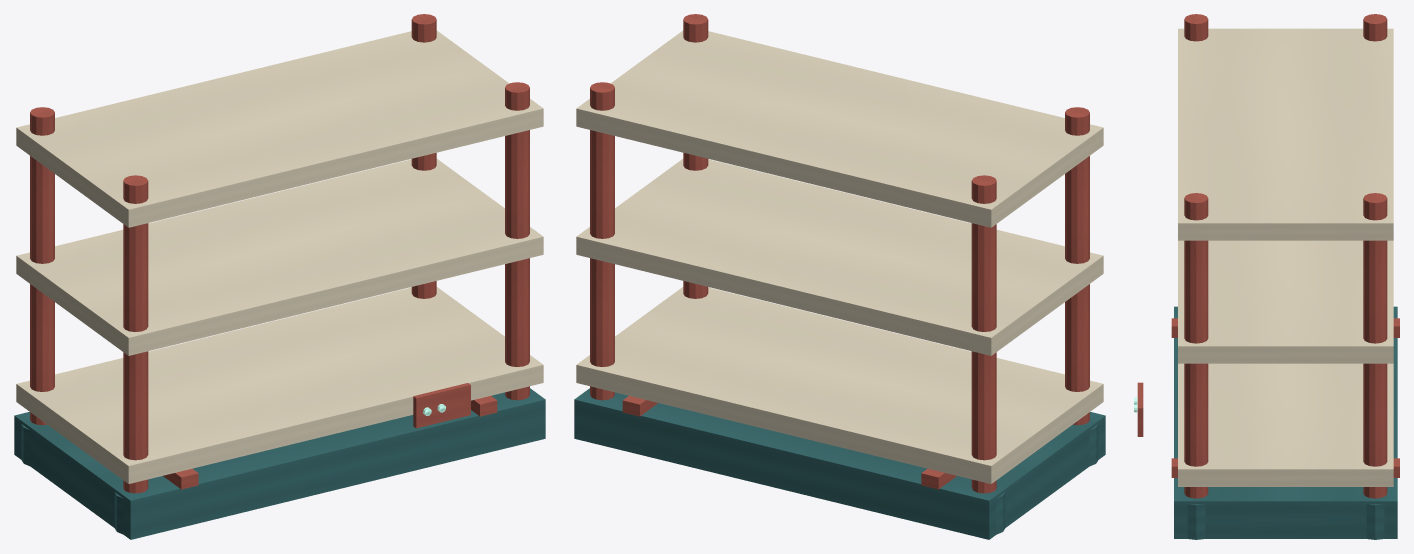
File: atlas100-s033-a06.glb
The picture shows the model from 3 angles, left to right: view 1: azimuth 30°, elevation 25°; view 2: azimuth 150°, elevation 25°; view 3: azimuth 270°, elevation 25°; orthographic projection. The views are drawn at different scales.
Visible parts, largest first — view 1: atlas100-s033-a06:part-013, atlas100-s033-a06:part-012, atlas100-s033-a06:part-011, atlas100-s033-a06:part-000, atlas100-s033-a06:part-005, atlas100-s033-a06:part-009, atlas100-s033-a06:part-003, atlas100-s033-a06:part-014, atlas100-s033-a06:part-007; view 2: atlas100-s033-a06:part-013, atlas100-s033-a06:part-012, atlas100-s033-a06:part-011, atlas100-s033-a06:part-000, atlas100-s033-a06:part-003, atlas100-s033-a06:part-007, atlas100-s033-a06:part-005, atlas100-s033-a06:part-009; view 3: atlas100-s033-a06:part-013, atlas100-s033-a06:part-012, atlas100-s033-a06:part-011, atlas100-s033-a06:part-000, atlas100-s033-a06:part-007, atlas100-s033-a06:part-009, atlas100-s033-a06:part-008, atlas100-s033-a06:part-010, atlas100-s033-a06:part-003, atlas100-s033-a06:part-005, atlas100-s033-a06:part-014.
Boxes of the visible parts, bbox=[...] form: atlas100-s033-a06:part-013: bbox=[16, 30, 543, 227]; atlas100-s033-a06:part-012: bbox=[16, 159, 543, 355]; atlas100-s033-a06:part-011: bbox=[16, 287, 543, 483]; atlas100-s033-a06:part-000: bbox=[14, 388, 545, 539]; atlas100-s033-a06:part-005: bbox=[123, 175, 148, 493]; atlas100-s033-a06:part-009: bbox=[505, 82, 529, 400]; atlas100-s033-a06:part-003: bbox=[30, 107, 54, 425]; atlas100-s033-a06:part-014: bbox=[413, 383, 470, 428]; atlas100-s033-a06:part-007: bbox=[411, 14, 436, 298]; atlas100-s033-a06:part-013: bbox=[576, 30, 1103, 227]; atlas100-s033-a06:part-012: bbox=[576, 159, 1103, 355]; atlas100-s033-a06:part-011: bbox=[576, 287, 1103, 483]; atlas100-s033-a06:part-000: bbox=[574, 388, 1105, 539]; atlas100-s033-a06:part-003: bbox=[971, 175, 996, 493]; atlas100-s033-a06:part-007: bbox=[590, 82, 614, 400]; atlas100-s033-a06:part-005: bbox=[1065, 107, 1089, 425]; atlas100-s033-a06:part-009: bbox=[683, 14, 708, 298]; atlas100-s033-a06:part-013: bbox=[1178, 28, 1393, 240]; atlas100-s033-a06:part-012: bbox=[1178, 240, 1393, 363]; atlas100-s033-a06:part-011: bbox=[1178, 363, 1393, 486]; atlas100-s033-a06:part-000: bbox=[1174, 306, 1397, 538]; atlas100-s033-a06:part-007: bbox=[1363, 193, 1387, 498]; atlas100-s033-a06:part-009: bbox=[1184, 193, 1208, 498]; atlas100-s033-a06:part-008: bbox=[1366, 504, 1384, 539]; atlas100-s033-a06:part-010: bbox=[1187, 504, 1205, 539]; atlas100-s033-a06:part-003: bbox=[1363, 14, 1387, 41]; atlas100-s033-a06:part-005: bbox=[1184, 14, 1208, 41]; atlas100-s033-a06:part-014: bbox=[1137, 382, 1143, 436].
Bounding box in the file's own units: 2.91 × 2.3 × 1.66.
Materials: 4 (4 with a texture image).
